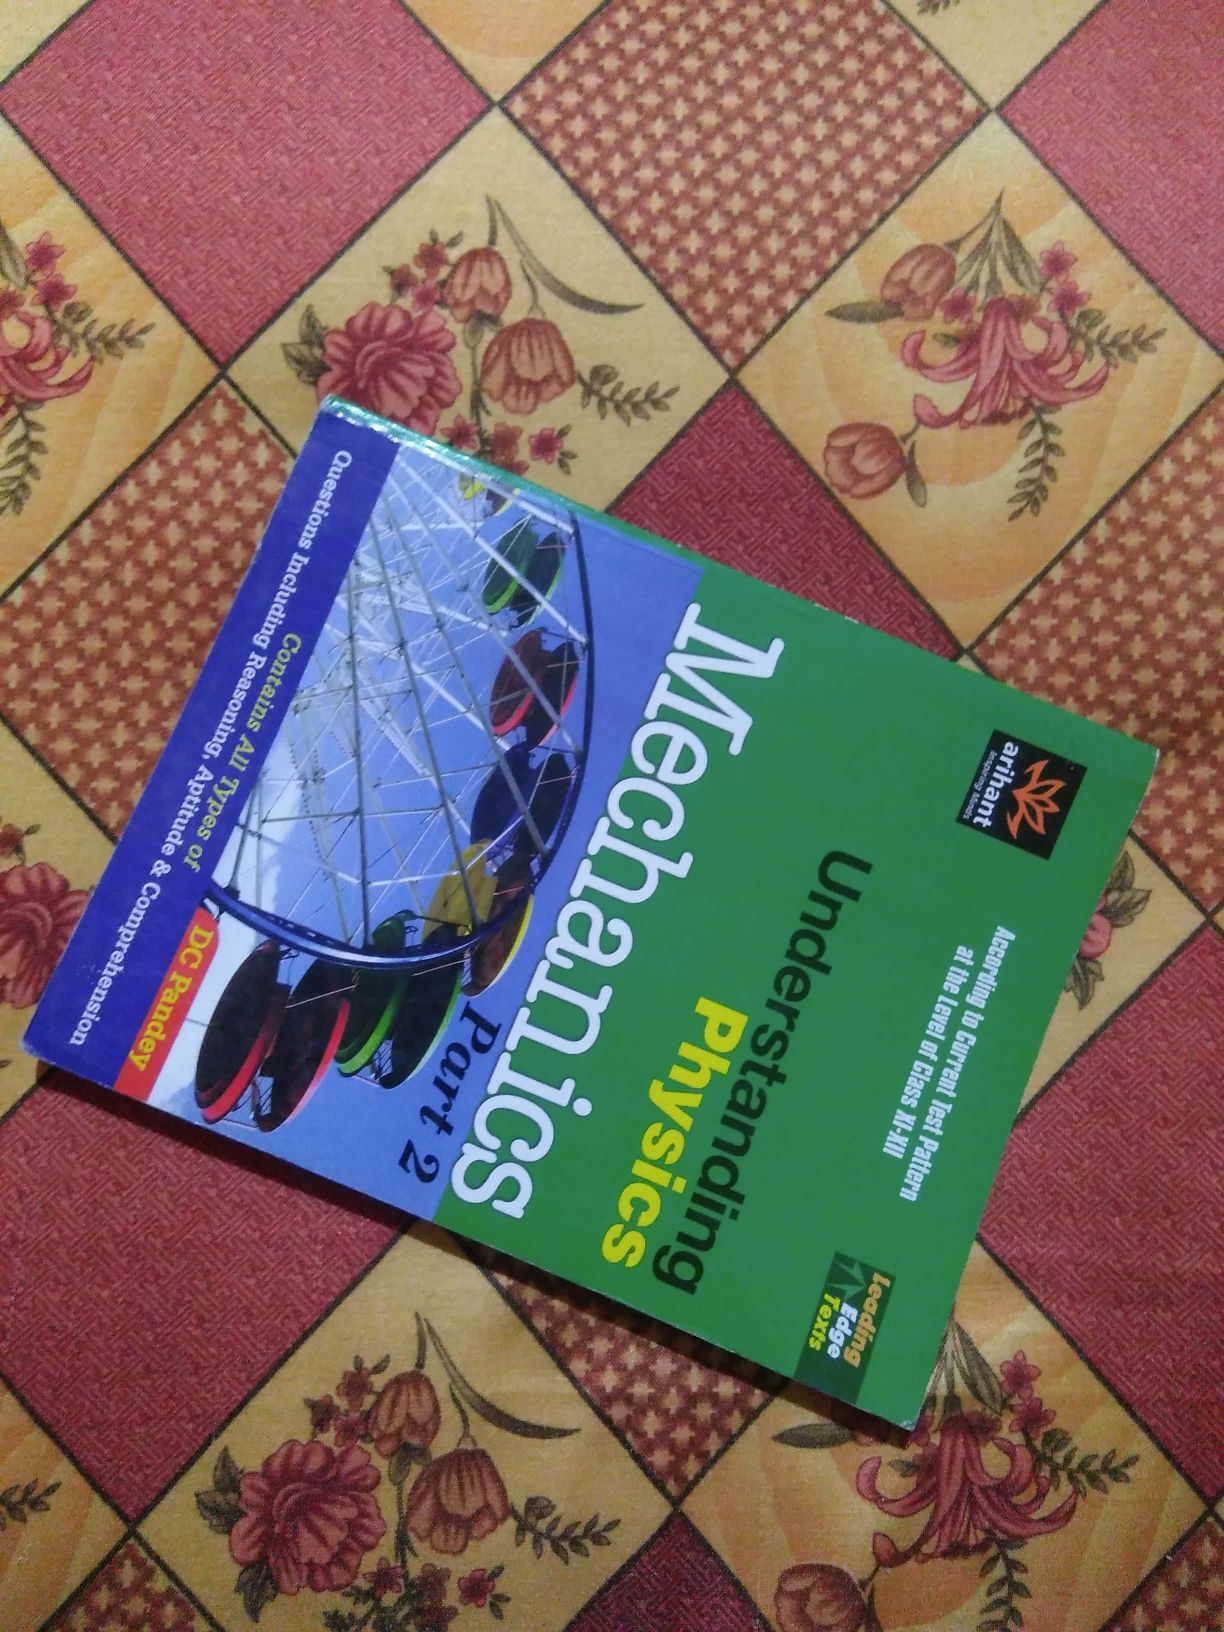mechanics: (64, 378, 1137, 1426)
